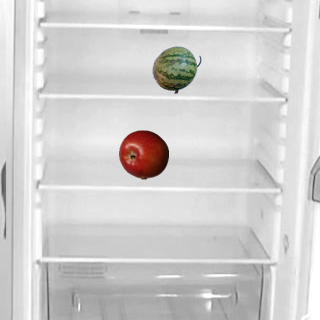Apple Braeburn: (118, 129, 168, 179)
Watermelon: (151, 44, 201, 94)
